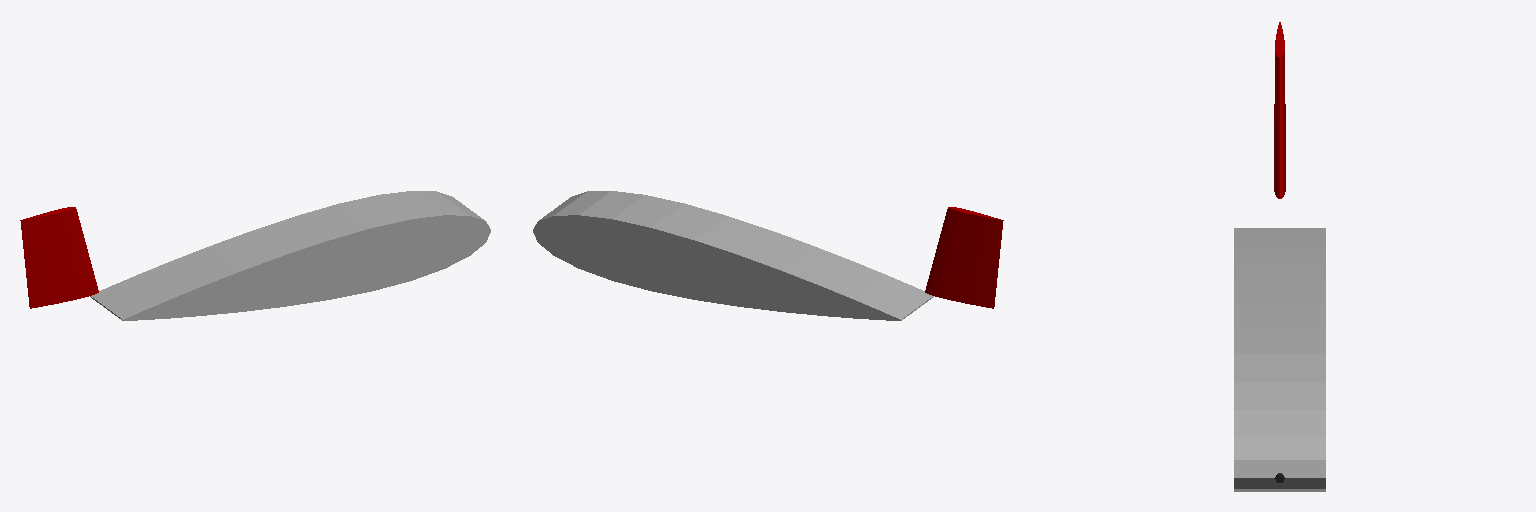
The robot description file, URDF, robot "drone_ea":
<?xml version='1.0' encoding='utf-8'?>
<robot name="drone_ea">

  
  <material name="grey"><color rgba="0.7 0.7 0.7 1" /></material>
  <material name="red"><color rgba="0.7 0 0 1" /></material>
  <material name="black"><color rgba="0.2 0.2 0.2 1" /></material>

  
  <link name="root_link">
    <inertial>
      <origin xyz="0 0 0" rpy="0 0 0" />
      <mass value="0" />
      <inertia ixx="0" ixy="0" ixz="0" iyy="0" iyz="0" izz="0" />
    </inertial>
  </link>

  
  <joint name="fixed_joint_base_fuselage" type="fixed">
    <parent link="root_link" />
    <child link="fuselage" />
    <origin xyz="0 0 0" rpy="3.141592653589793 0 0" />
  </joint>

  <link name="fuselage">
    <inertial>
      <origin xyz="-0.275 0 -0.04" rpy="0 0 0" />
      <mass value="0.4" />
      <inertia ixx="2.9015955e-04" ixy="0" ixz="0" iyy="5.4080147e-03" iyz="0" izz="5.4511885e-03" />
    </inertial>

    <visual name="fuselage_visual_0">
      <origin xyz="0 0 0" rpy="0 0 0" />
      <geometry>
        <mesh filename="package://meshes/fuselage_only.stl" scale="0.00085 0.001 0.001" name="fuselage_visual_0_shape_0" />
      </geometry>
      <material name="grey" />
    </visual>

    
    <collision name="fuselage_collision_0"><origin xyz="-0.3637137339341273 1.3039958826196884e-18 0.0024556534860724526" rpy="-1.5898372930676048 6.123233995736766e-17 -1.5707963267948968" /><geometry><box size="0.10000000000000005 0.10476803794561983 0.6273891147638257" name="fuselage_collision_0_box_0" /></geometry></collision></link>

  <joint name="fixed_joint_aero_frame_fuselage" type="fixed">
    <parent link="fuselage" />
    <child link="aero_frame_fuselage" />
    <origin xyz="-0.275 0 -0.03" rpy="0 3.141592653589793 0" />
  </joint>

  <link name="aero_frame_fuselage">
    <inertial>
      <origin xyz="0 0 0" rpy="0 0 0" />
      <mass value="0" />
      <inertia ixx="0" ixy="0" ixz="0" iyy="0" iyz="0" izz="0" />
    </inertial>
  </link>

  
  <joint name="elevator_pitch_joint" type="revolute">
    <parent link="fuselage" />
    <child link="elevator" />
    <origin xyz="-0.65 0 -0.0" rpy="0 0 0" />
    <axis xyz="0 1 0" />
    <limit lower="-0.261799" upper="0.261799" effort="1.0" velocity="3.665191429" />
    <dynamics damping="0.5" friction="0.2" />
  </joint>

  <link name="elevator">
    <inertial>
      <origin xyz="-0.0434 0 0" rpy="0 0 0" />
      <mass value="0.05" />
      <inertia ixx="2.083333e-04" ixy="0" ixz="0" iyy="7.083333e-04" iyz="0" izz="8.333333e-04" />
    </inertial>
    <visual name="elevator_visual_0">
      <origin xyz="0 0 0" rpy="0 0 0" />
      <geometry><mesh filename="package://meshes/elevator.stl" scale="0.0007 0.0012 0.001" name="elevator_visual_0_shape_0" /></geometry>
      <material name="grey" />
    </visual>
    <collision name="elevator_collision_0"><origin xyz="-0.07000432726456528 -8.064577072812925e-08 -0.022629186316734207" rpy="1.5763749568400676 -1.5318707859093612 3.1359944428787543" /><geometry><box size="0.013556761639149529 0.139941292987101 0.36000365939871676" name="elevator_collision_0_box_0" /></geometry></collision></link>

  
  <joint name="fixed_joint_aero_frame_elevator" type="fixed">
    <parent link="elevator" />
    <child link="aero_frame_elevator" />
    
    <origin xyz="-0.0434 0 0" rpy="0 3.141592653589793 0" />
  </joint>

  <link name="aero_frame_elevator">
    <inertial><origin xyz="0 0 0" rpy="0 0 0" /><mass value="0" /><inertia ixx="0" ixy="0" ixz="0" iyy="0" iyz="0" izz="0" /></inertial>
  </link>

  
  <joint name="rudder_yaw_joint" type="revolute">
    <parent link="elevator" />
    <child link="rudder" />
    <origin xyz="-0.0 0 0" rpy="0 0 0" />
    <axis xyz="0 0 1" />
    <limit lower="-0.523599" upper="0.523599" effort="1.0" velocity="3.665191429" />
    <dynamics damping="0.5" friction="0.2" />
  </joint>

  <link name="rudder">
    <inertial>
      <origin xyz="-0.0372 0 -0.08" rpy="0 0 0" />
      <mass value="0.02" />
      <inertia ixx="5.283333e-05" ixy="0" ixz="0" iyy="7.083333e-05" iyz="0" izz="1.950000e-05" />
    </inertial>
    <visual name="rudder_visual_0">
      <origin xyz="0 0 0" rpy="0 0 0" />
      <geometry><mesh filename="package://meshes/rudder.stl" scale="0.0008 0.001 0.001" name="rudder_visual_0_shape_0" /></geometry>
      <material name="red" />
    </visual>
    <collision name="rudder_collision_0"><origin xyz="-0.06799945448794147 -0.0006858935606931133 -0.10499447081596952" rpy="0.10626955814138643 0.008780081131392076 1.5717328981686811" /><geometry><box size="0.01347209289684701 0.119323096637794 0.16357341166046455" name="rudder_collision_0_box_0" /></geometry></collision></link>

  
  <joint name="fixed_joint_aero_frame_rudder" type="fixed">
    <parent link="rudder" />
    <child link="aero_frame_rudder" />
    <origin xyz="-0.0372 0 -0.08" rpy="0 3.141592653589793 0" />
  </joint>

  <link name="aero_frame_rudder">
    <inertial><origin xyz="0 0 0" rpy="0 0 0" /><mass value="0" /><inertia ixx="0" ixy="0" ixz="0" iyy="0" iyz="0" izz="0" /></inertial>
  </link>

  
  
  
  <joint name="fixed_joint_right_wing" type="fixed">
    <parent link="fuselage" />
    <child link="fuselage_right_0" />
    <origin xyz="-0.32 0.05 0.01" rpy="0 0 3.141592653589793" />
  </joint>

  <link name="fuselage_right_0">
    <inertial>
      <origin xyz="0 0 0" rpy="0 0 0" />
      <mass value="0.1" />
      
      <inertia ixx="5.651e-05" ixy="0" ixz="0" iyy="5.651e-05" iyz="0" izz="5.651e-05" />
    </inertial>
  </link>

  <joint name="joint_0_twist_right_wing" type="revolute">
    <parent link="fuselage_right_0" />
    <child link="fuselage_right_1" />
    <origin xyz="0 0 0" rpy="0 0 0" />
    <axis xyz="0 1 0" />
    <limit effort="2.0" lower="-0.5235987756" upper="0.5235987756" velocity="3.665191429" />
    <dynamics damping="0.5" friction="0.2" />
  </joint>

  <link name="fuselage_right_1">
    <inertial><origin xyz="0 0 0" rpy="0 0 0" /><mass value="0" /><inertia ixx="0" ixy="0" ixz="0" iyy="0" iyz="0" izz="0" /></inertial>
  </link>

  <joint name="joint_1_fixed_right_wing" type="fixed">
    <parent link="fuselage_right_1" />
    <child link="fuselage_right_2" />
    <origin xyz="0 0 0" rpy="0 0 0" />
  </joint>

  <link name="fuselage_right_2">
    <inertial><origin xyz="0 0 0" rpy="0 0 0" /><mass value="0" /><inertia ixx="0" ixy="0" ixz="0" iyy="0" iyz="0" izz="0" /></inertial>
  </link>

  <joint name="joint_2_fixed_right_wing" type="fixed">
    <parent link="fuselage_right_2" />
    <child link="right_wing" />
    <origin xyz="0 0 0" rpy="0 0 0" />
  </joint>

  <link name="right_wing">
    <inertial>
      <origin xyz="0.034436664 -0.25 0" rpy="0 0 0" />
      <mass value="0.059258" />
      
      <inertia ixx="2.161532e-03" ixy="0" ixz="0" iyy="1.312526e-04" iyz="0" izz="2.290610e-03" />
    </inertial>
    <visual name="right_wing_visual_0">
      <origin xyz="0 0 0" rpy="0 0 0" />
      <geometry>
        <mesh filename="package://meshes/wing0009.stl" scale="0.2 0.5 0.2" name="right_wing_visual_0_shape_0" />
      </geometry>
      <material name="red" />
    </visual>
    <collision name="right_wing_collision_0"><origin xyz="0.04999612235345877 -0.25 -0.00042104241030908906" rpy="1.5707963267949019 -1.5589220215203794 -5.217699233189628e-15" /><geometry><box size="0.01796222497680495 0.19998814444400242 0.5" name="right_wing_collision_0_box_0" /></geometry></collision></link>

  <joint name="fixed_joint_aero_frame_right_wing" type="fixed">
    <parent link="right_wing" />
    <child link="aero_frame_right_wing" />
    <origin xyz="0.034436664 -0.25 0" rpy="3.141592653589793 0 0" />
  </joint>

  <link name="aero_frame_right_wing">
    <inertial><origin xyz="0 0 0" rpy="0 0 0" /><mass value="0" /><inertia ixx="0" ixy="0" ixz="0" iyy="0" iyz="0" izz="0" /></inertial>
  </link>

  
  
  
  <joint name="fixed_joint_left_wing" type="fixed">
    <parent link="fuselage" />
    <child link="fuselage_left_0" />
    <origin xyz="-0.32 -0.05 0.01" rpy="0 3.141592653589793 0" />
  </joint>

  <link name="fuselage_left_0">
    <inertial>
      <origin xyz="0 0 0" rpy="0 0 0" />
      <mass value="0.1" />
      <inertia ixx="5.651e-05" ixy="0" ixz="0" iyy="5.651e-05" iyz="0" izz="5.651e-05" />
    </inertial>

  </link>

  <joint name="joint_0_twist_left_wing" type="revolute">
    <parent link="fuselage_left_0" />
    <child link="fuselage_left_1" />
    <origin xyz="0 0 0" rpy="0 0 0" />
    <axis xyz="0 -1 0" />
    <limit effort="2.0" lower="-0.5235987756" upper="0.5235987756" velocity="3.665191429" />
    <dynamics damping="0.5" friction="0.2" />
  </joint>

  <link name="fuselage_left_1">
    <inertial><origin xyz="0 0 0" rpy="0 0 0" /><mass value="0" /><inertia ixx="0" ixy="0" ixz="0" iyy="0" iyz="0" izz="0" /></inertial>
  </link>

  <joint name="joint_1_fixed_left_wing" type="fixed">
    <parent link="fuselage_left_1" />
    <child link="fuselage_left_2" />
    <origin xyz="0 0 0" rpy="0 0 0" />
  </joint>

  <link name="fuselage_left_2">
    <inertial><origin xyz="0 0 0" rpy="0 0 0" /><mass value="0" /><inertia ixx="0" ixy="0" ixz="0" iyy="0" iyz="0" izz="0" /></inertial>
  </link>

  <joint name="joint_2_fixed_left_wing" type="fixed">
    <parent link="fuselage_left_2" />
    <child link="left_wing" />
    <origin xyz="0 0 0" rpy="0 0 0" />
  </joint>

  <link name="left_wing">
    <inertial>
      <origin xyz="0.034436664 -0.25 0" rpy="0 0 0" />
      <mass value="0.059258" />
      <inertia ixx="2.161532e-03" ixy="0" ixz="0" iyy="1.312526e-04" iyz="0" izz="2.290610e-03" />
    </inertial>
    <visual name="left_wing_visual_0">
      <origin xyz="0 0 0" rpy="0 0 0" />
      <geometry>
        <mesh filename="package://meshes/wing0009.stl" scale="0.2 0.5 0.2" name="left_wing_visual_0_shape_0" />
      </geometry>
      <material name="red" />
    </visual>
    <collision name="left_wing_collision_0"><origin xyz="0.04999612235345877 -0.25 -0.00042104241030908906" rpy="1.5707963267949019 -1.5589220215203794 -5.217699233189628e-15" /><geometry><box size="0.01796222497680495 0.19998814444400242 0.5" name="left_wing_collision_0_box_0" /></geometry></collision></link>

  <joint name="fixed_joint_aero_frame_left_wing" type="fixed">
    <parent link="left_wing" />
    <child link="aero_frame_left_wing" />
    <origin xyz="0.034436664 -0.25 0" rpy="0 0 0" />
  </joint>

  <link name="aero_frame_left_wing">
    <inertial><origin xyz="0 0 0" rpy="0 0 0" /><mass value="0" /><inertia ixx="0" ixy="0" ixz="0" iyy="0" iyz="0" izz="0" /></inertial>
  </link>

  
  
  
  <joint name="fixed_joint_prop_frame_fuselage_0" type="fixed">
    <parent link="fuselage" />
    <child link="prop_frame_fuselage_0" />
    <origin xyz="0 0 0" rpy="3.141592653589793 -1.5707963267948966 0" />
  </joint>

  <link name="prop_frame_fuselage_0">
    <inertial>
      <origin xyz="0 0 0" rpy="0 0 0" />
      <mass value="0.031" />
      
      <inertia ixx="3.7625e-05" ixy="0" ixz="0" iyy="3.7625e-05" iyz="0" izz="7.5000e-05" />
    </inertial>
    <visual name="prop_frame_fuselage_0_visual_0">
      <origin xyz="0 0 0" rpy="0 0 0" />
      <geometry><cylinder radius="0.005" length="0.005" name="prop_frame_fuselage_0_visual_0_shape_0" /></geometry>
      <material name="black" />
    </visual>
    
  </link>

</robot>

--- Render facts (derived) ---
The picture shows the robot from 3 angles, left to right: view 1: azimuth 30°, elevation 25°; view 2: azimuth 150°, elevation 25°; view 3: azimuth 270°, elevation 25°; orthographic projection.
Model drone_ea with 18 links and 17 joints (4 revolute, 13 fixed), rooted at root_link, posed every joint at zero.
Links seen in each view (by area): view 1: fuselage, rudder; view 2: fuselage, rudder; view 3: fuselage, rudder.
Link boxes in pixels (x1,y1,x2,y2): fuselage: (90, 191, 490, 320); rudder: (20, 207, 98, 308); fuselage: (533, 191, 933, 320); rudder: (925, 207, 1003, 308); fuselage: (1234, 228, 1325, 491); rudder: (1274, 22, 1285, 198).
Bounding box of the posed robot: 0.7885 × 0.1 × 0.2324 m (x, y, z).
Meshes: 4 distinct files referenced, 2 mesh visuals loaded (2 binary STL); not drawn: 3 (reference not matched to a file when rendering).